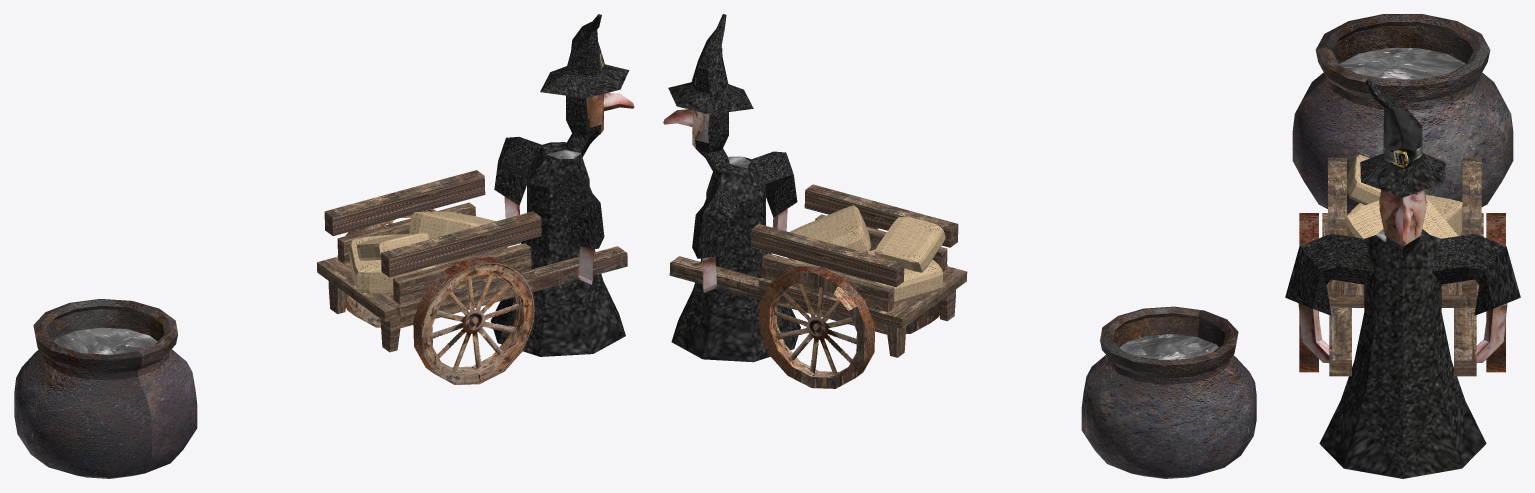
Rendered from carro 1.fbx.
The picture shows the model from 3 angles, left to right: view 1: azimuth 30°, elevation 25°; view 2: azimuth 150°, elevation 25°; view 3: azimuth 270°, elevation 25°; orthographic projection. The views are drawn at different scales.
Visible parts, largest first — view 1: Cylinder, Cylinder.001, Cube, Cube.003, Cube.002, Cube.001, Cube.005, Cube.006, Cube.007, Cube.004; view 2: Cylinder, Cylinder.001, Cube, Cube.004, Cube.001, Cube.002, Cube.007, Cube.006, Cube.005; view 3: Cylinder.001, Cylinder, Cube, Cube.006, Cube.001, Cube.002, Cube.003, Cube.004, Cube.007, Cube.005.
Part boxes in pixels (x1,y1,x2,y2): Cylinder: (14,299,197,478); Cylinder.001: (490,14,634,356); Cube: (317,202,627,352); Cube.003: (413,257,534,384); Cube.002: (381,211,541,277); Cube.001: (324,170,485,236); Cube.005: (349,234,436,293); Cube.006: (409,211,508,249); Cube.007: (357,233,428,260); Cube.004: (337,209,436,327); Cylinder: (1081,306,1256,478); Cylinder.001: (663,14,800,362); Cube: (669,214,967,357); Cube.004: (758,266,875,388); Cube.001: (750,224,904,287); Cube.002: (804,184,958,247); Cube.007: (874,217,945,272); Cube.006: (789,205,870,269); Cube.005: (842,249,942,303); Cylinder.001: (1285,79,1520,478); Cylinder: (1292,14,1513,212); Cube: (1322,197,1483,376); Cube.006: (1347,197,1458,238); Cube.001: (1462,157,1481,235); Cube.002: (1328,157,1346,235); Cube.003: (1299,213,1318,372); Cube.004: (1486,213,1505,372); Cube.007: (1347,154,1380,205); Cube.005: (1348,194,1462,235).
Size of the model in its own units: 756 by 401 by 214.
Materials: 10 (10 with a texture image).
